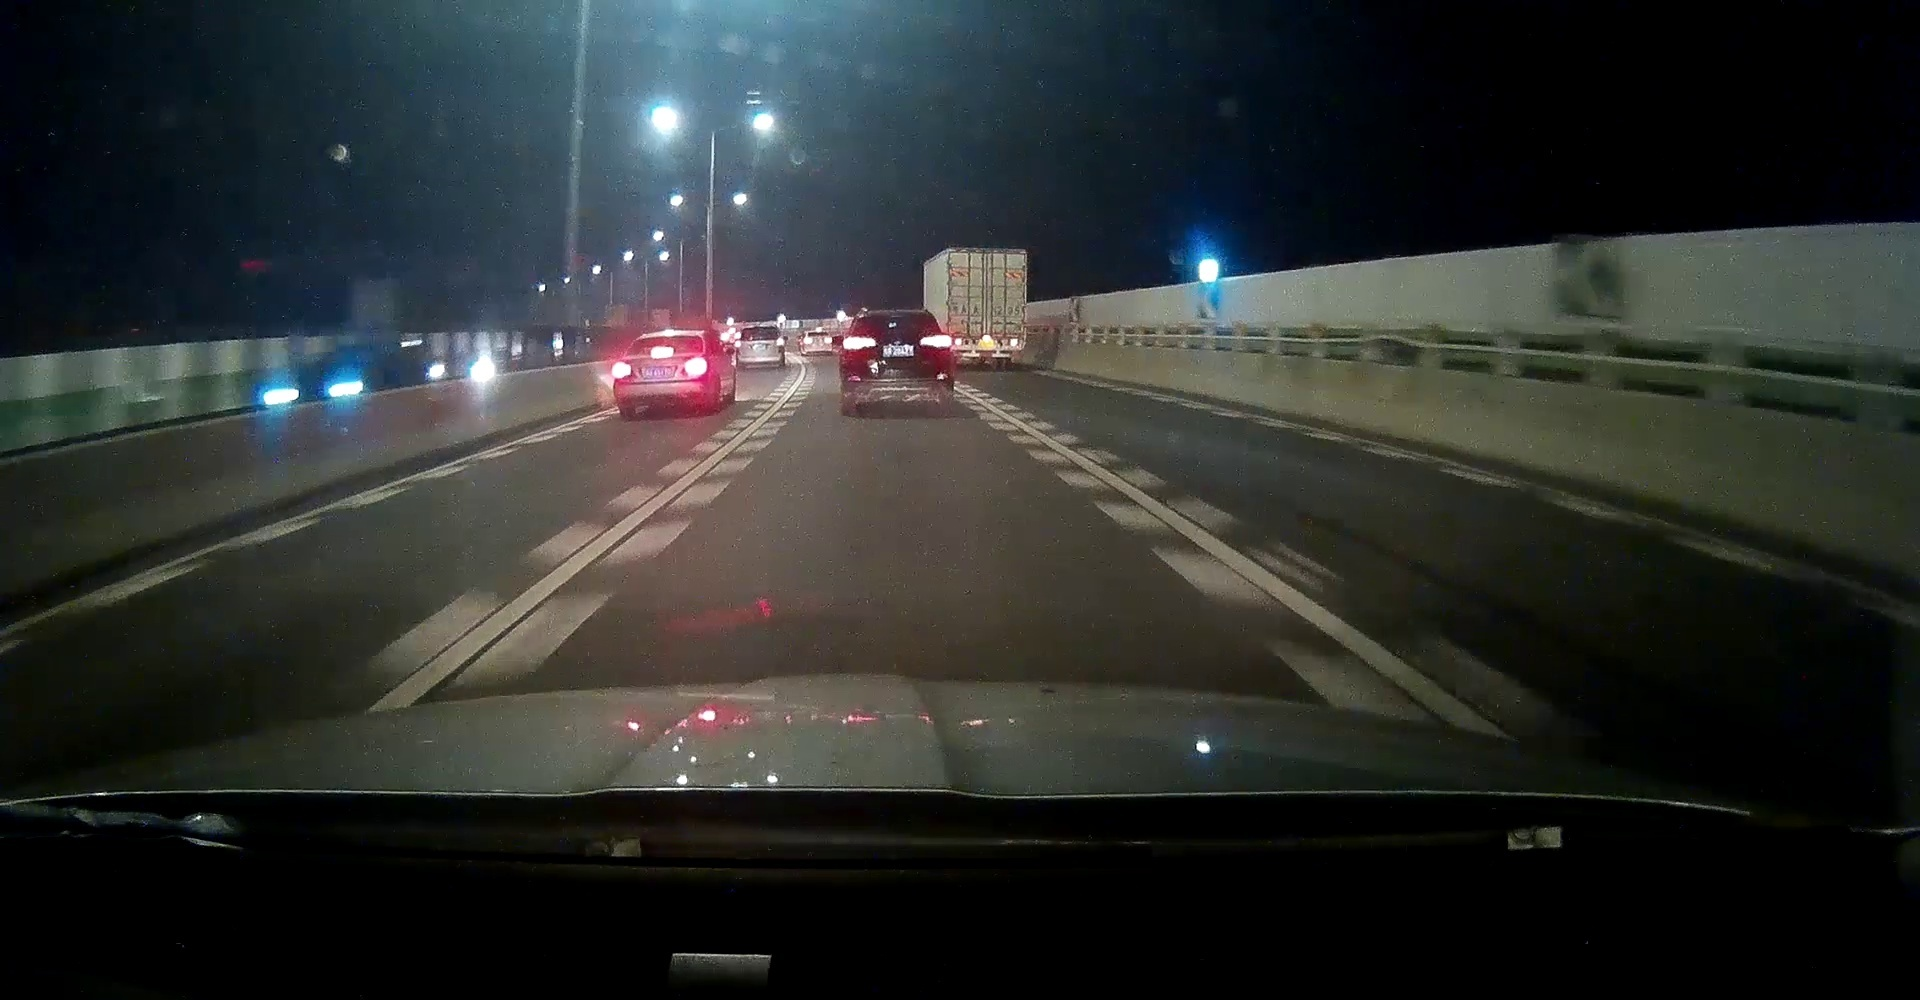L_light: (842, 338, 875, 349), (615, 364, 636, 379), (737, 340, 742, 346), (805, 339, 811, 344)
R_light: (681, 359, 705, 377), (919, 335, 952, 348), (776, 339, 783, 345), (825, 339, 830, 343)
T_light: (651, 350, 672, 357), (888, 317, 905, 321), (757, 327, 766, 330), (817, 332, 822, 334)
night-brake: (613, 332, 707, 416)
night-no: (839, 312, 954, 416), (737, 325, 783, 371), (804, 332, 832, 357)
